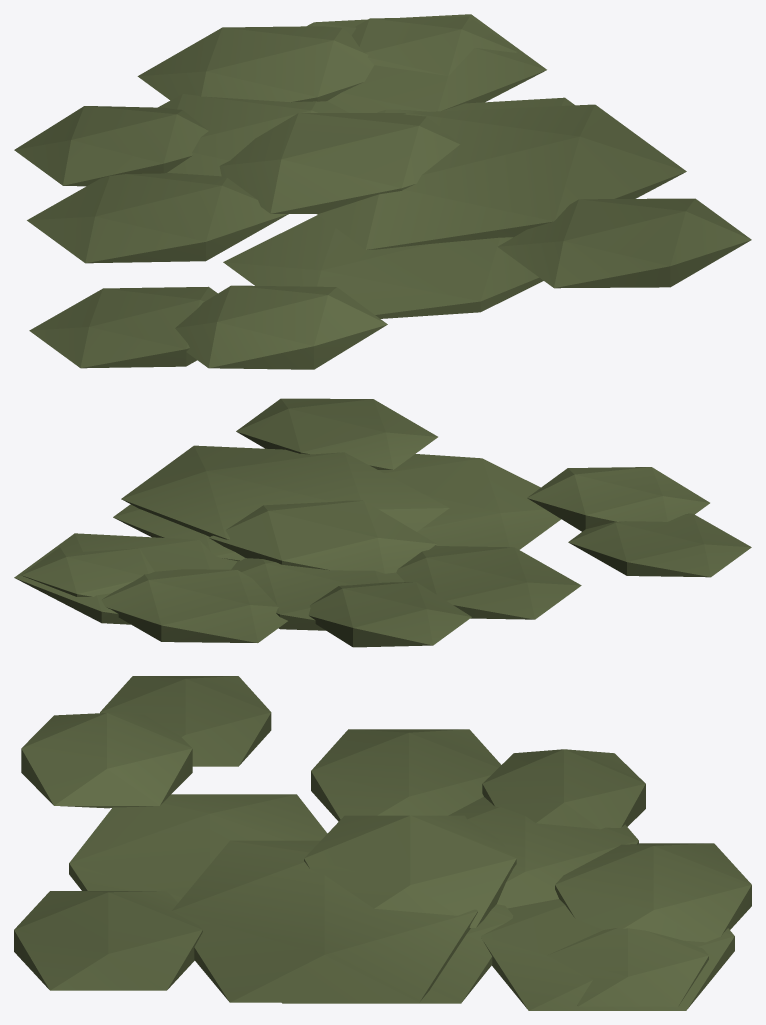
File: iron-moss.glb
The picture shows the model from 3 angles, top to bottom: view 1: azimuth 30°, elevation 25°; view 2: azimuth 150°, elevation 25°; view 3: azimuth 270°, elevation 25°; orthographic projection. The views are drawn at different scales.
Parts seen in each view (by area): view 1: Прибрежный мох; view 2: Прибрежный мох; view 3: Прибрежный мох.
Boxes of the visible parts, x1,y1,x2,y2 form: Прибрежный мох: (14,14,751,369); Прибрежный мох: (14,398,751,647); Прибрежный мох: (14,676,751,1010).
Size of the model in its own units: 1.08 by 0.0681 by 1.01.
